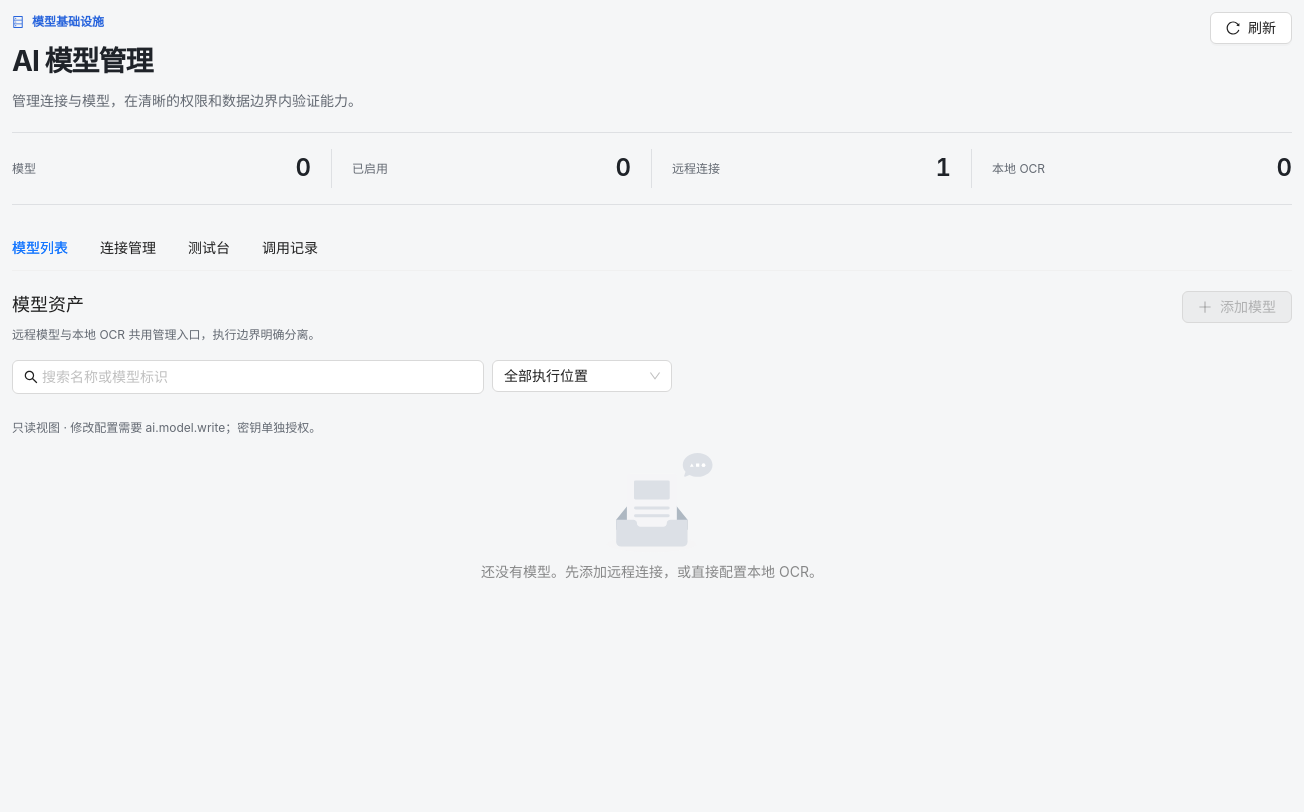
Test case: permission boundaries and low-risk logs › secret write is available independently from metadata write
Click the tab "连接管理" at (128, 248), box [100,237,156,259]
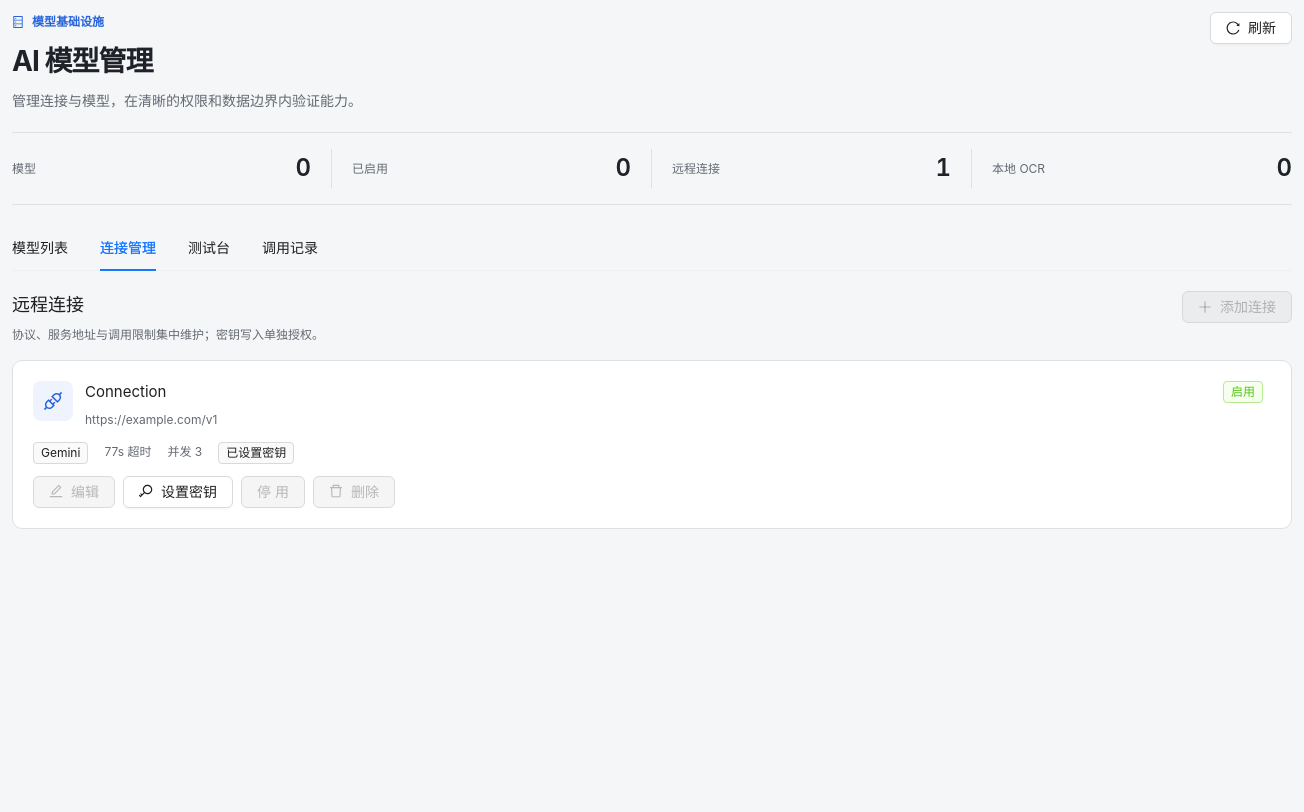
Expected: the button "编辑" is disabled, [33,476,115,508]
Expected: the button "设置密钥" is enabled, [123,476,233,508]
